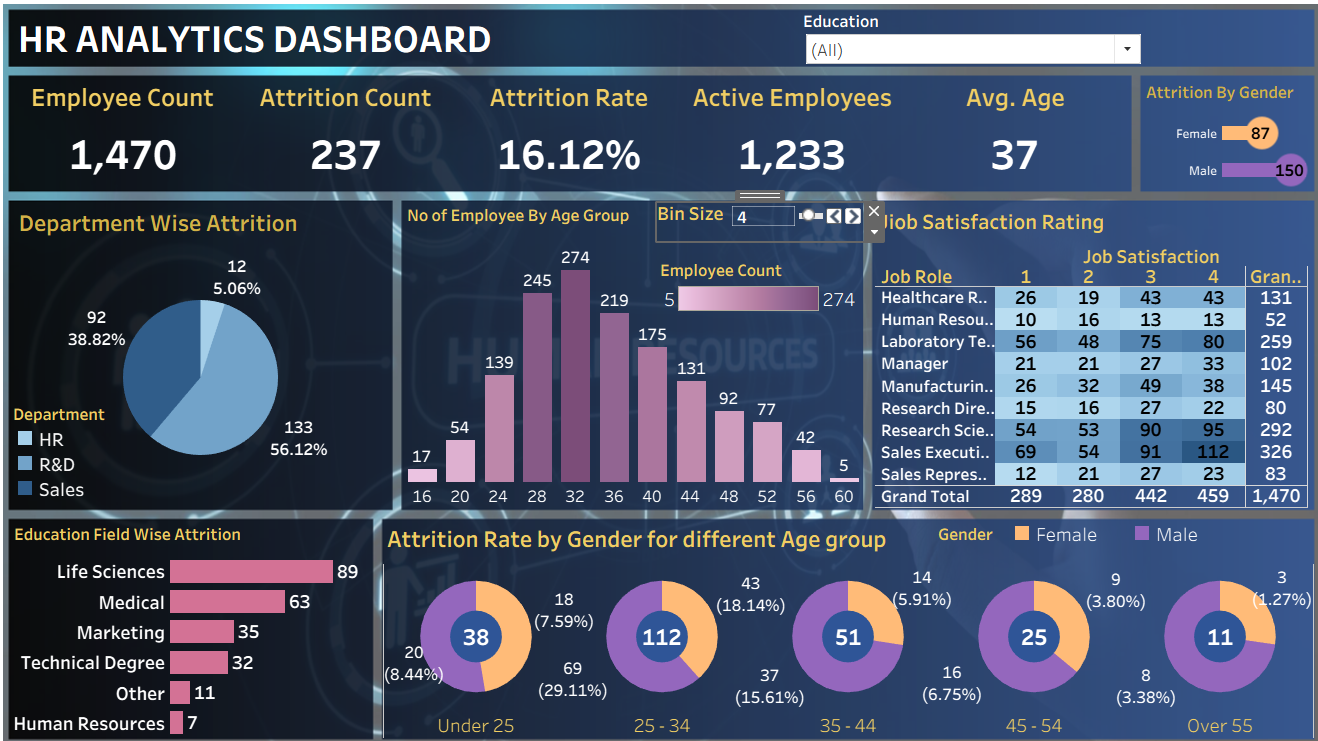

Layout of this report page (visuals, bound fields, positions):
{"tool":"tableau","page":{"name":"HR ANALYTICS DASHBOARD","canvas":[1000,1000],"units":"permille","ordinal":0},"visuals":[{"type":"image","param":"Image/HR background.png","box":[3.8,10.7,998.7,992]},{"type":"filter","title":" Department Wise Attrition","param":"[federated.1j8vxfj05cyf3h154oerg1v7vuw9].[none:Education:nk]","box":[592.4,18.7,215.8,73.6]},{"type":"text","box":[93,22.8,305.1,65.6]},{"type":"worksheet","title":"Attrition By Gender","mark":"Automatic","rows":["Gender"],"cols":["Calculation_1108632764784640","Calculation_1108632764784640"],"box":[807,108.4,107,149.9]},{"type":"worksheet","title":"KPI","mark":"Automatic","box":[91.1,109.8,706.3,151.3]},{"type":"worksheet","title":"No of Employee By Age Group","mark":"Automatic","rows":["Employee Count"],"cols":["Age (bin)"],"box":[339.2,273.1,291.8,412.3]},{"type":"worksheet","title":" Department Wise Attrition","mark":"Pie","box":[90.5,277.1,241.1,407]},{"type":"parameter","param":"[Parameters].[Parameter 1]","box":[500,277.1,131,50.9]},{"type":"worksheet","title":"Jiob Satisfaction Rating","mark":"Square","rows":["Job Role"],"cols":["Job Satisfaction"],"box":[638,277.1,274.1,408.3]},{"type":"legend","title":"No of Employee By Age Group","param":"[federated.1j8vxfj05cyf3h154oerg1v7vuw9].[sum:Employee Count:qk]","box":[501.9,352.1,126.6,76.3]},{"type":"legend","title":" Department Wise Attrition","param":"[federated.1j8vxfj05cyf3h154oerg1v7vuw9].[none:Department:nk]","box":[92.4,544.9,74.7,132.5]},{"type":"worksheet","title":"Education Field Wise Attrition","mark":"Automatic","rows":["Education Field"],"cols":["Calculation_1108632764784640"],"box":[90.5,700.1,228.5,293.2]},{"type":"worksheet","title":"Attrition Rate by Gender for different Age group","mark":"Pie","rows":["Calculation_1881314733268993","Calculation_1881314733268993"],"cols":["CF_age band"],"box":[326.6,700.1,589.2,294.5]},{"type":"legend","title":"Attrition Rate by Gender for different Age group","param":"[federated.1j8vxfj05cyf3h154oerg1v7vuw9].[none:Gender:nk]","box":[677.9,702.8,222.2,46.9]}]}

Visuals, with their boxes on the dashboard's canvas, which has no fixed pixel size, in thousandths of its width and height (x1, y1, x2, y2). These are canvas units, not pixel positions in the 1318x741 screenshot, which may show the page scaled, cropped or inside an application window:
image: box=[4, 11, 1002, 1003]
" Department Wise Attrition" filter: box=[592, 19, 808, 92]
text: box=[93, 23, 398, 88]
"Attrition By Gender" worksheet: box=[807, 108, 914, 258]
"KPI" worksheet: box=[91, 110, 797, 261]
"No of Employee By Age Group" worksheet: box=[339, 273, 631, 685]
" Department Wise Attrition" worksheet (Pie marks): box=[90, 277, 332, 684]
parameter: box=[500, 277, 631, 328]
"Jiob Satisfaction Rating" worksheet (Square marks): box=[638, 277, 912, 685]
"No of Employee By Age Group" legend: box=[502, 352, 628, 428]
" Department Wise Attrition" legend: box=[92, 545, 167, 677]
"Education Field Wise Attrition" worksheet: box=[90, 700, 319, 993]
"Attrition Rate by Gender for different Age group" worksheet (Pie marks): box=[327, 700, 916, 995]
"Attrition Rate by Gender for different Age group" legend: box=[678, 703, 900, 750]
